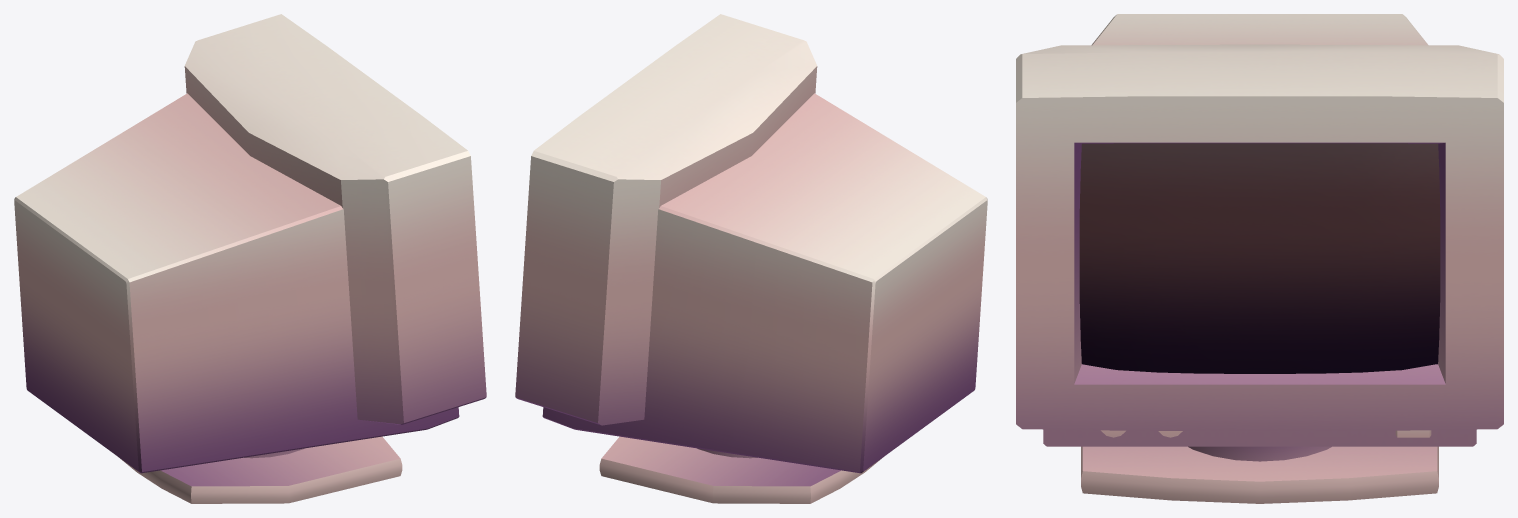
The model's file is Computer screen.fbx.
The picture shows the model from 3 angles, left to right: view 1: azimuth 30°, elevation 25°; view 2: azimuth 150°, elevation 25°; view 3: azimuth 270°, elevation 25°; orthographic projection. The views are drawn at different scales.
Parts seen in each view (by area): view 1: Cube.001; view 2: Cube.001; view 3: Cube.001.
Boxes of the visible parts, <box> form: Cube.001: <box>14,14,486,503</box>; Cube.001: <box>515,14,987,503</box>; Cube.001: <box>1016,14,1503,503</box>.
Size of the model in its own units: 398 by 395 by 412.
